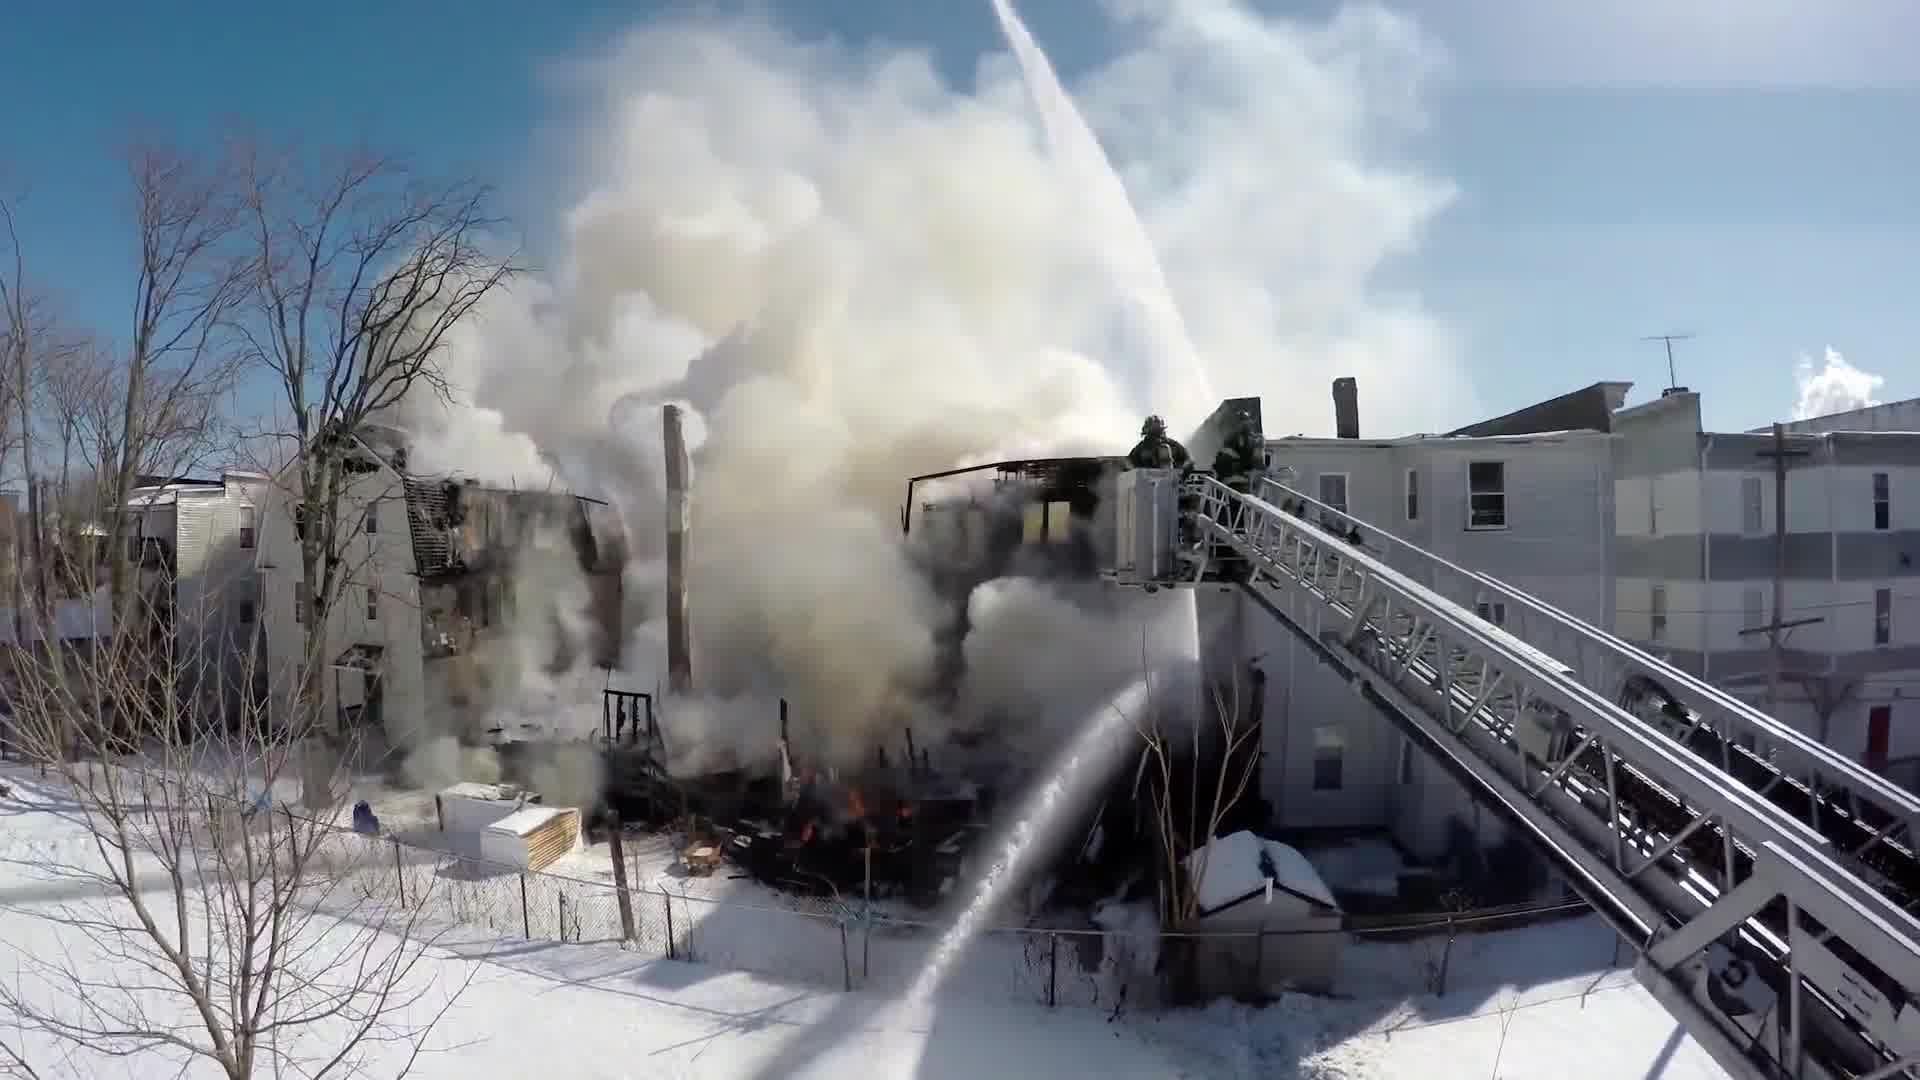smoke: (346, 28, 1482, 796)
